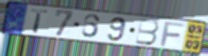6: (81, 13, 102, 39)
7: (54, 8, 75, 38)
9: (107, 17, 127, 42)
B: (135, 18, 161, 46)
F: (159, 21, 187, 48)
T: (29, 8, 50, 34)
